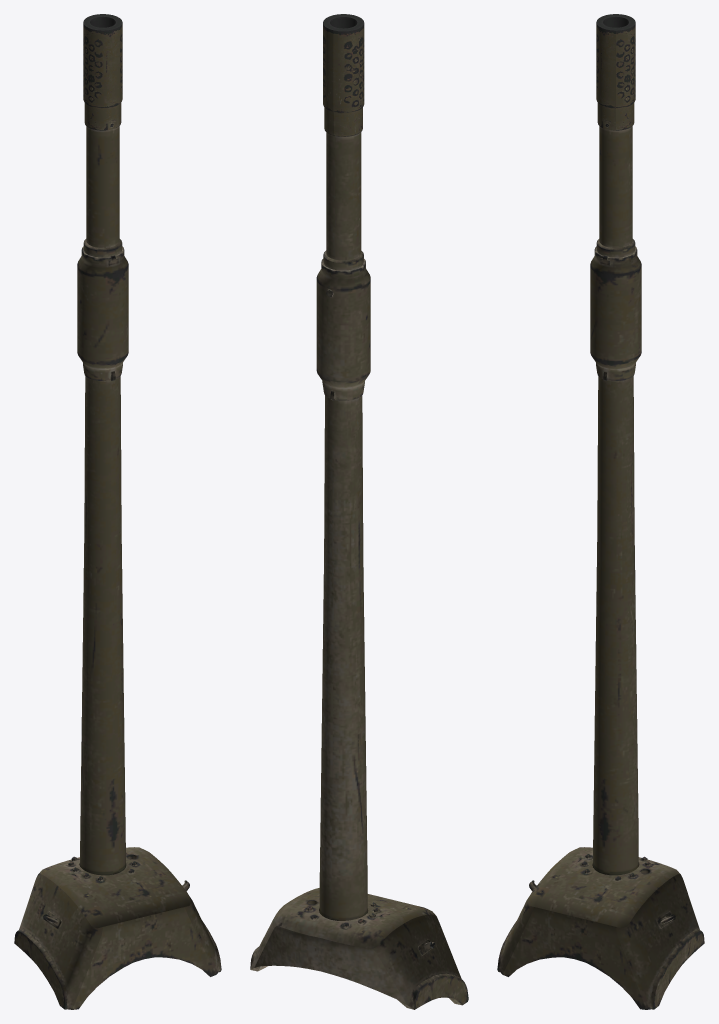
The model's file is Gun_03.glb.
3 renders of one model, left to right at view 1: azimuth 30°, elevation 25°; view 2: azimuth 150°, elevation 25°; view 3: azimuth 330°, elevation 25°, orthographic. The views are drawn at different scales.
Parts seen in each view (by area): view 1: set_0_group_0; view 2: set_0_group_0; view 3: set_0_group_0.
Part boxes in pixels (box(x1,y1,x2,y2)): set_0_group_0: box(14, 14, 221, 1009); set_0_group_0: box(250, 14, 468, 1009); set_0_group_0: box(497, 14, 704, 1009).
Size of the model in its own units: 0.9576 by 5.5 by 0.6762.
1 material, 1 textured.
